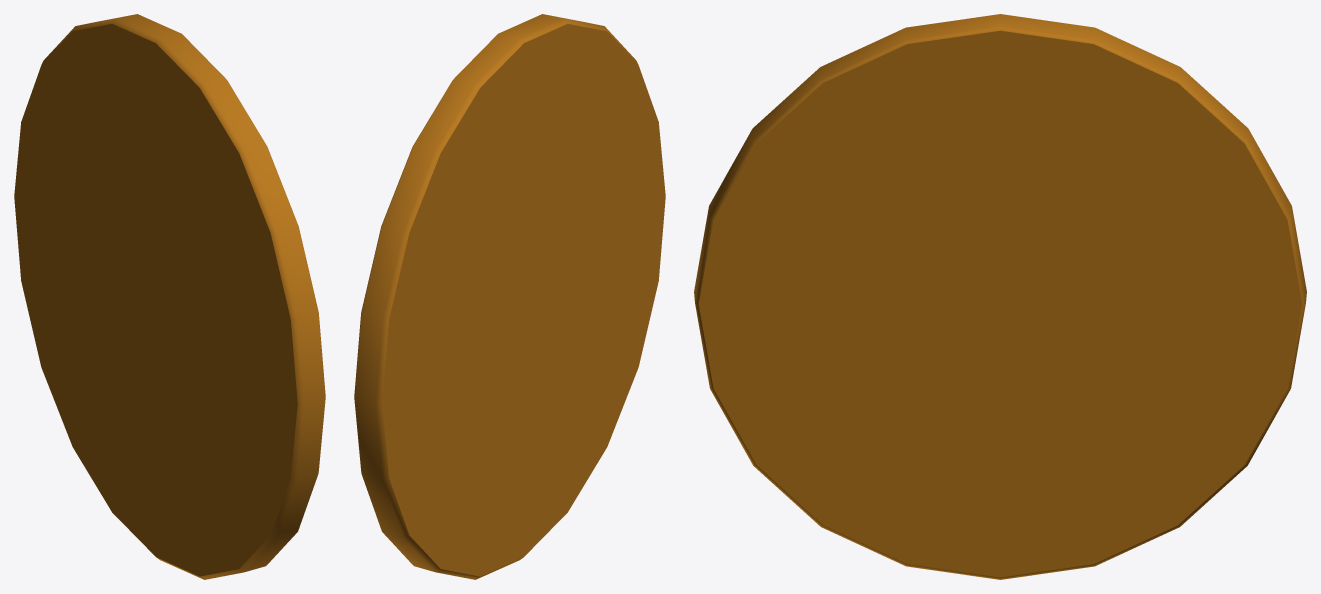
The model's file is Stationary_Target.fbx.
3 views of the same model, side by side, from view 1: azimuth 30°, elevation 25°; view 2: azimuth 150°, elevation 25°; view 3: azimuth 270°, elevation 25° (orthographic). The views are drawn at different scales.
Visible parts, largest first — view 1: Stationary_Target; view 2: Stationary_Target; view 3: Stationary_Target.
Part boxes in pixels (x1,y1,x2,y2): Stationary_Target: (14, 14, 325, 579); Stationary_Target: (354, 14, 665, 579); Stationary_Target: (694, 14, 1306, 579).
Size of the model in its own units: 0.1558 by 2.77 by 2.77.
